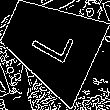L_NW: (24, 18, 76, 69)
